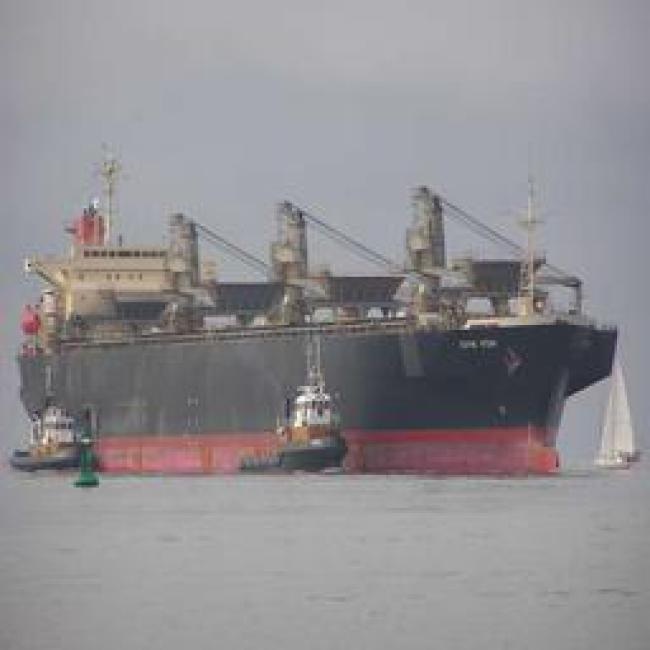Ship: (7, 197, 628, 493)
